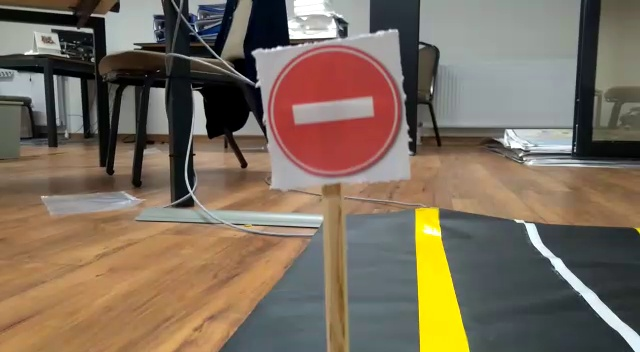girisi_olmayan_yol: (249, 42, 410, 182)
